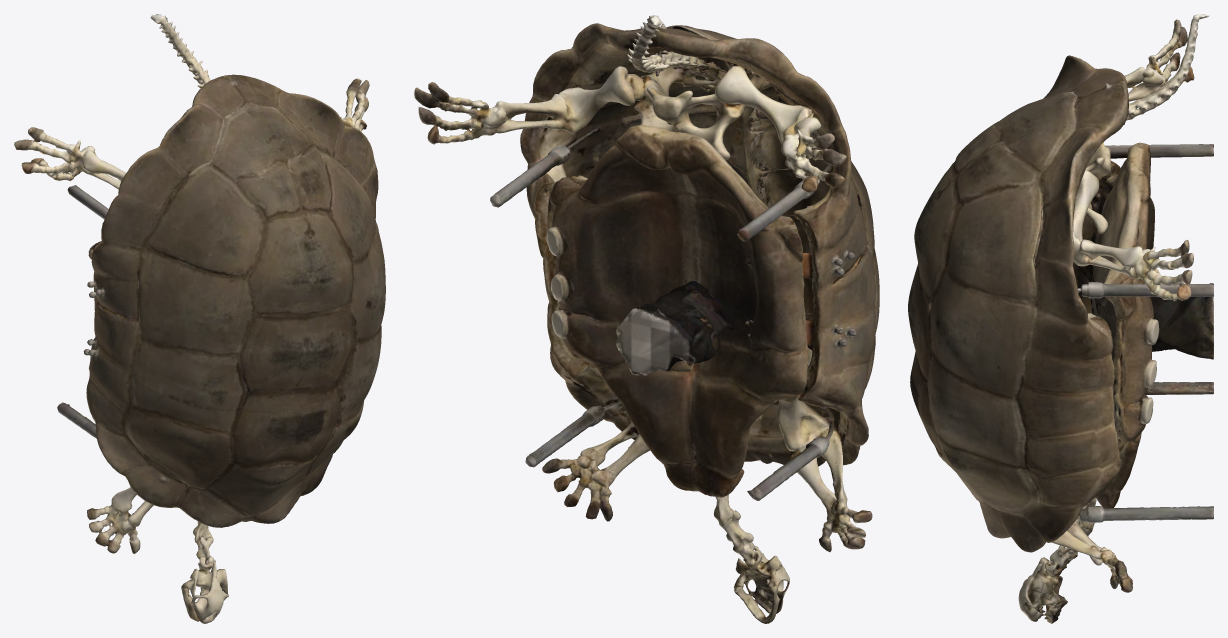
The picture shows the model from 3 angles, left to right: view 1: azimuth 30°, elevation 25°; view 2: azimuth 150°, elevation 25°; view 3: azimuth 270°, elevation 25°; orthographic projection. The views are drawn at different scales.
Parts seen in each view (by area): view 1: tamanho; view 2: tamanho; view 3: tamanho.
Boxes of the visible parts, box(x1,y1,x2,y2) form: tamanho: box(14, 14, 385, 623); tamanho: box(414, 15, 879, 623); tamanho: box(908, 14, 1213, 623).
Bounding box in the file's own units: 31455 × 46199 × 20530.
Materials: 1 (1 with a texture image).
